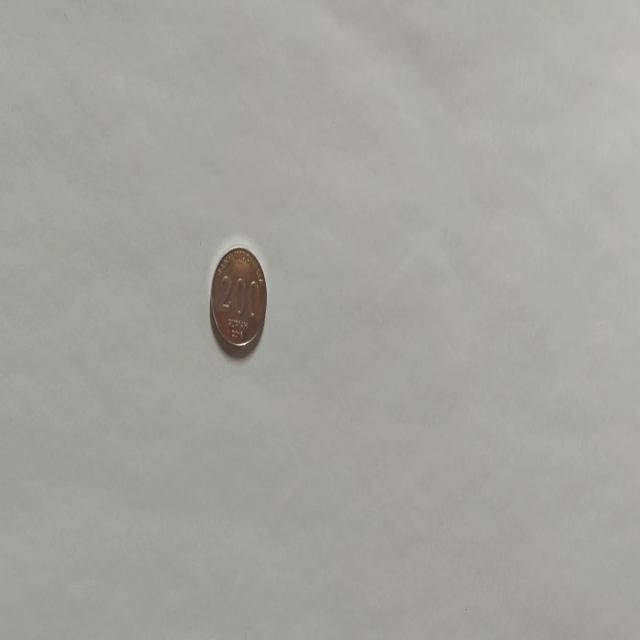dua ratus rupiah: (208, 244, 268, 352)
